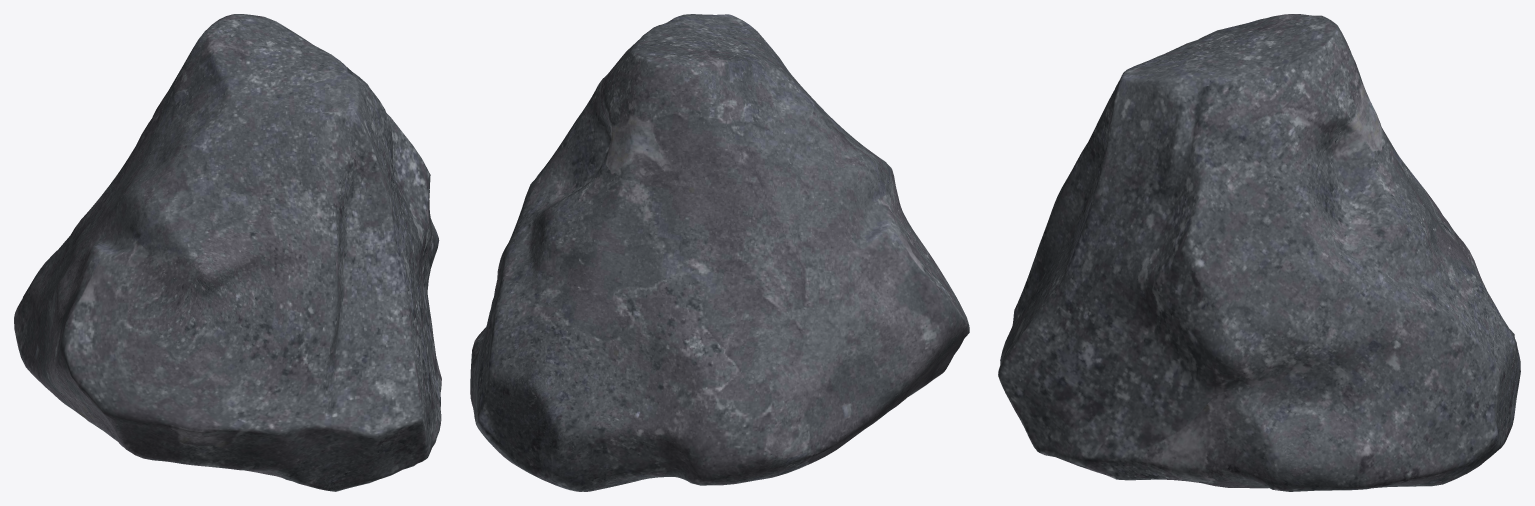
The model's file is rock_3.glb.
3 renders of one model, left to right at view 1: azimuth 30°, elevation 25°; view 2: azimuth 150°, elevation 25°; view 3: azimuth 270°, elevation 25°, orthographic. The views are drawn at different scales.
Visible parts, largest first — view 1: R3_MD; view 2: R3_MD; view 3: R3_MD.
Boxes of the visible parts, x1,y1,x2,y2 form: R3_MD: (14,14,441,491); R3_MD: (470,14,969,491); R3_MD: (998,14,1520,491).
Bounding box in the file's own units: 0.376 × 0.342 × 0.3836.
Materials: 1 (1 with a texture image).
